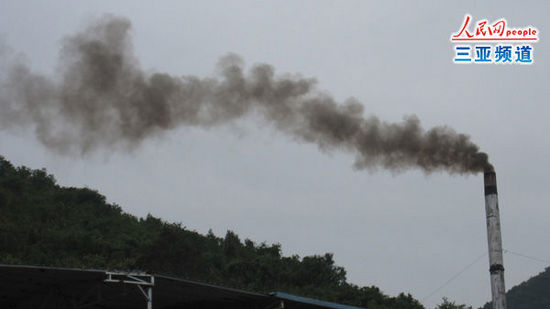dust: (300, 94, 500, 180)
